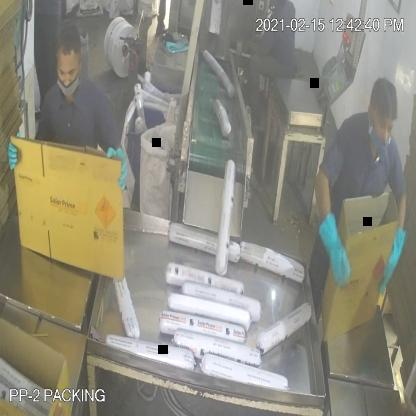glove: (315, 209, 354, 292), (380, 222, 408, 302), (240, 34, 272, 64)
